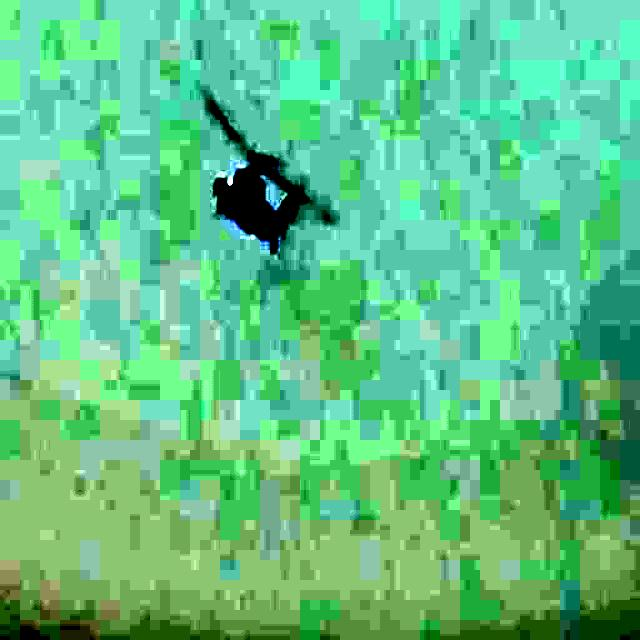drone: (200, 92, 341, 264)
